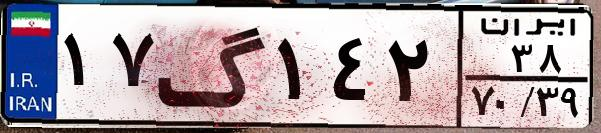0: (495, 70, 520, 125)
1: (270, 28, 330, 110), (57, 26, 110, 100)
2: (385, 28, 445, 110)
3: (508, 27, 537, 80), (535, 70, 560, 125)
4: (330, 28, 385, 110)
7: (110, 28, 156, 98), (470, 70, 495, 125)
8: (537, 27, 568, 80)
9: (560, 70, 590, 125)
گ: (156, 12, 270, 120)
